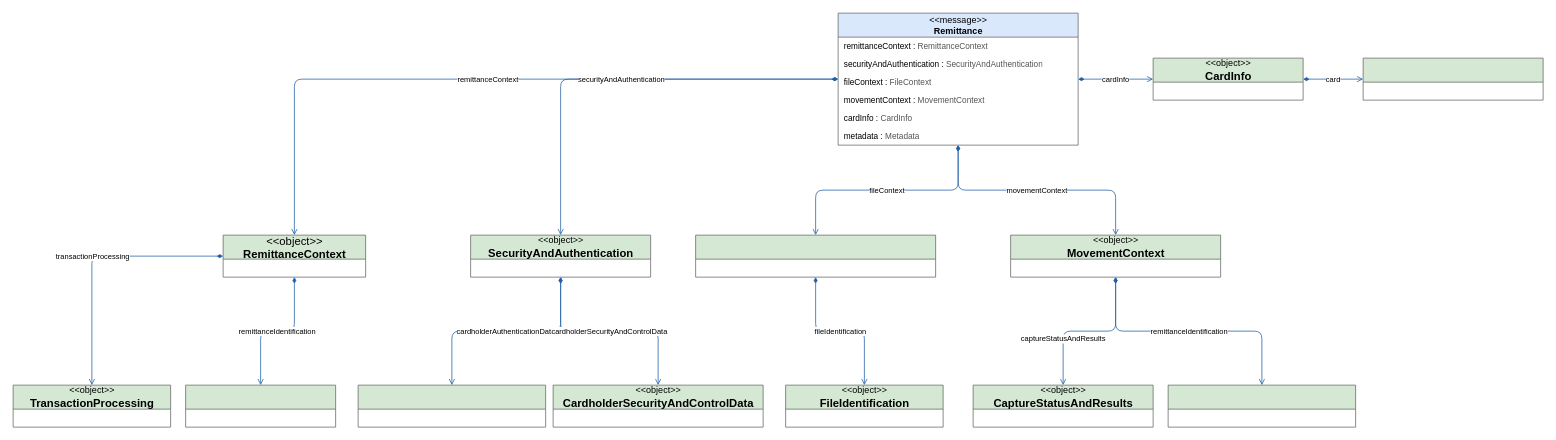
Some shapes in this 1556 by 440 pixel diagram are drawn without their labels. The centre of each missing label's shape, as x and y in pixels:
<<object>> CardData: the point at 1452,78
<<object>> CardholderAuthenticationData: the point at 451,405
<<object>> FileContext: the point at 815,255
<<object>> MovementRemittanceIdentification: the point at 1261,405
<<object>> RemittanceIdentification: the point at 260,405
